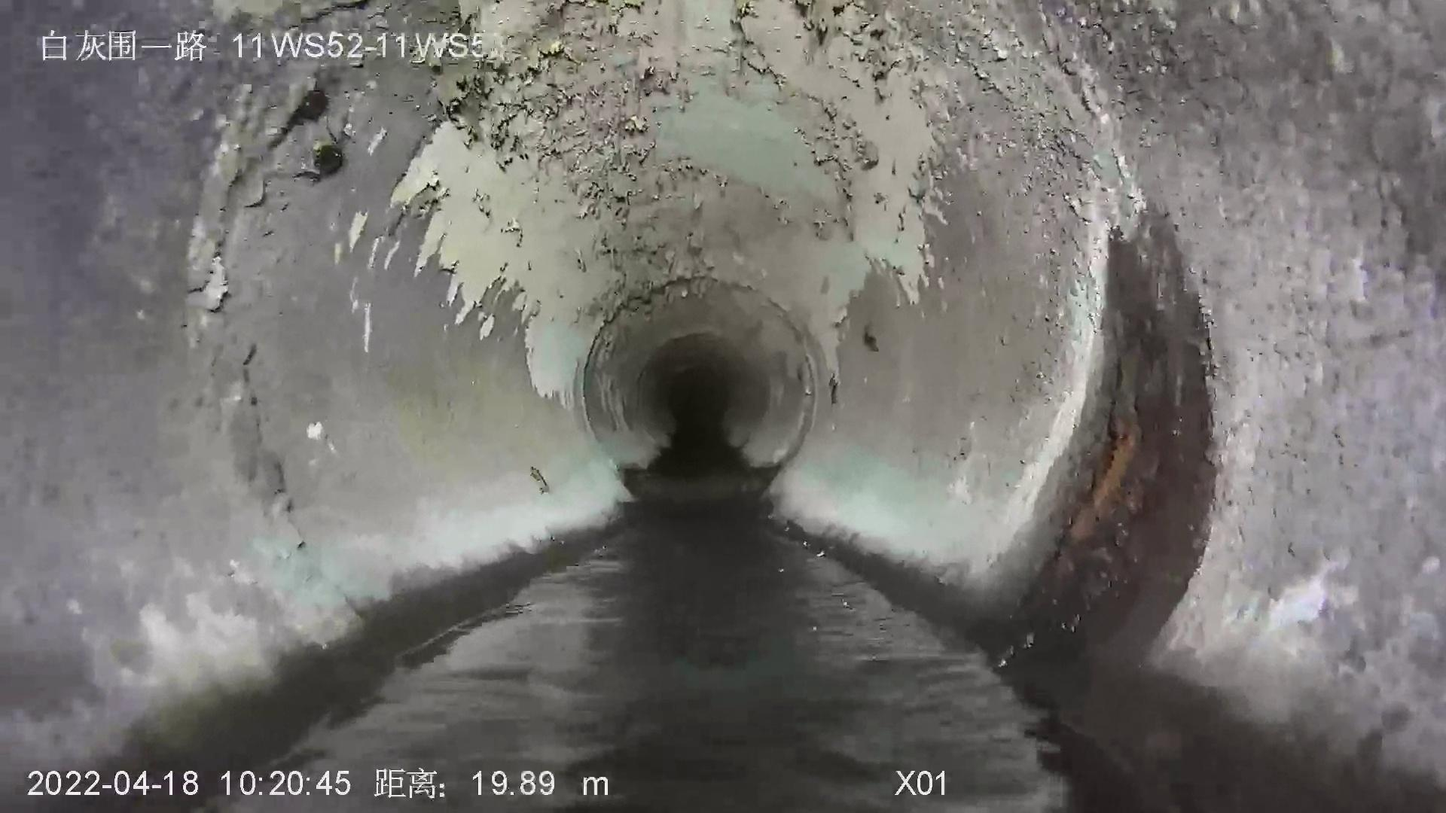JG: (392, 0, 1126, 466)
